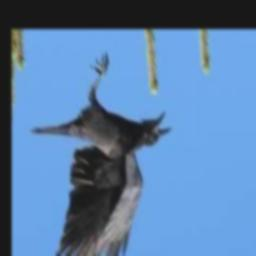Crow: (31, 53, 172, 256)
